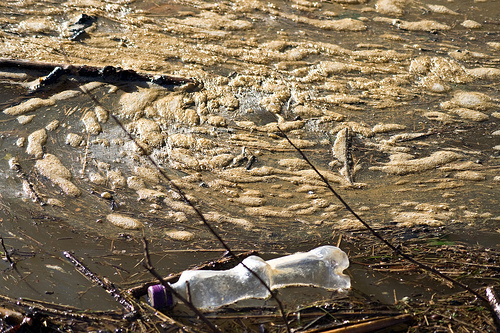litter: (149, 245, 352, 308)
